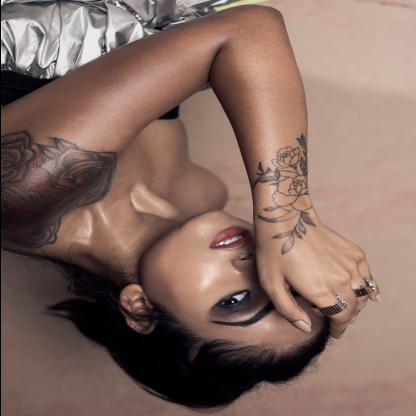Eye: (207, 289, 251, 312)
Mouth: (207, 227, 254, 250)
Nose: (231, 248, 259, 283)
